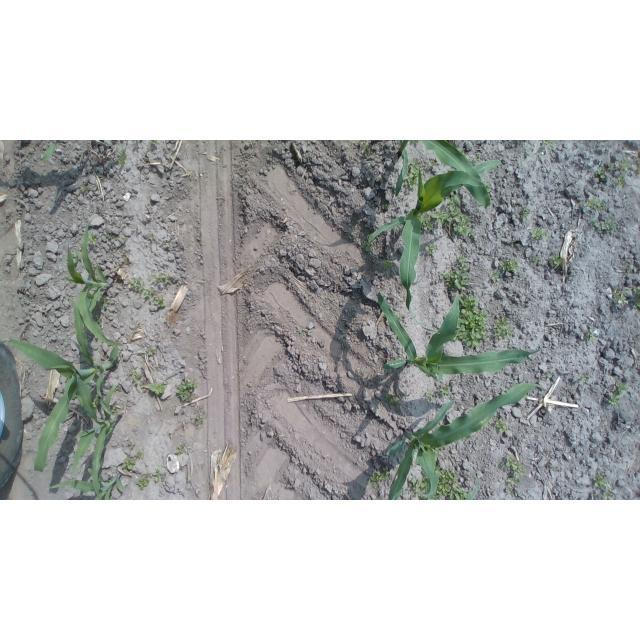Maize: (369, 160, 503, 335), (10, 295, 120, 474), (385, 382, 543, 500), (375, 288, 541, 384), (49, 365, 121, 500), (63, 221, 121, 346), (395, 140, 492, 208), (51, 468, 124, 500)
Weeds: (453, 294, 490, 347), (434, 465, 471, 500), (446, 194, 470, 236), (440, 270, 470, 291), (408, 471, 430, 498), (405, 162, 424, 188), (494, 318, 515, 340), (177, 380, 197, 403), (40, 141, 60, 164), (505, 455, 526, 476), (143, 289, 166, 308), (369, 468, 389, 488), (130, 277, 143, 296), (421, 212, 434, 230), (501, 260, 520, 272), (531, 227, 547, 241), (434, 208, 448, 224), (193, 405, 203, 427), (602, 219, 617, 233), (150, 382, 166, 394), (613, 289, 626, 303), (593, 475, 607, 488), (385, 394, 400, 406), (153, 273, 171, 283), (458, 254, 468, 271), (137, 477, 150, 490), (609, 392, 620, 407), (152, 469, 164, 482), (617, 158, 630, 170), (616, 382, 628, 395), (89, 393, 99, 408), (382, 258, 394, 270), (550, 254, 562, 266), (496, 420, 507, 433), (87, 232, 98, 245), (122, 459, 135, 470), (439, 385, 451, 396), (425, 243, 437, 254), (71, 252, 82, 264), (584, 198, 595, 210), (508, 474, 521, 484), (522, 206, 531, 220), (99, 298, 110, 309), (132, 371, 142, 383), (616, 176, 626, 188), (118, 153, 126, 168), (490, 271, 500, 282), (595, 167, 605, 178), (426, 390, 435, 402), (542, 141, 554, 150), (362, 241, 371, 251), (587, 331, 596, 341), (79, 183, 89, 192), (394, 312, 403, 322), (146, 347, 157, 355), (590, 219, 598, 230), (423, 495, 439, 500), (94, 315, 102, 325), (594, 202, 604, 210), (485, 184, 491, 197), (363, 146, 371, 155), (90, 303, 98, 312), (176, 446, 185, 454), (473, 154, 481, 162), (135, 451, 143, 459), (434, 446, 442, 454), (604, 491, 612, 499), (633, 300, 640, 309), (634, 286, 640, 296), (359, 140, 366, 148), (109, 407, 116, 414), (608, 163, 615, 170), (381, 204, 389, 210), (106, 233, 114, 239), (636, 165, 640, 176), (469, 230, 475, 237), (98, 174, 105, 180), (341, 344, 347, 351), (430, 161, 436, 167), (128, 442, 134, 448), (355, 221, 360, 228), (149, 233, 154, 239), (115, 359, 120, 365), (94, 184, 99, 190), (627, 267, 632, 273), (534, 256, 539, 262), (297, 329, 304, 333), (515, 491, 520, 496), (349, 236, 354, 241), (120, 238, 126, 242), (151, 140, 157, 144), (547, 371, 551, 377), (582, 376, 588, 380), (507, 488, 512, 492), (444, 314, 448, 318), (362, 371, 366, 375), (506, 388, 510, 392), (550, 464, 554, 468), (512, 240, 517, 243), (113, 388, 117, 391), (166, 245, 170, 248), (145, 474, 149, 477), (517, 141, 520, 144), (123, 250, 126, 253), (524, 395, 527, 398)
